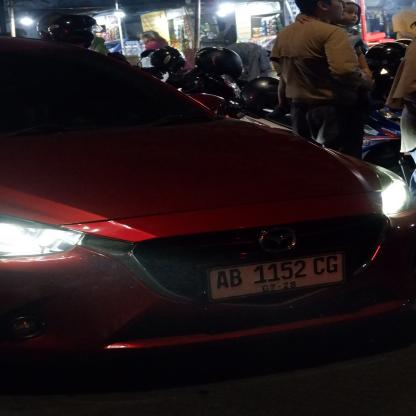Plat-Nomor: (202, 251, 350, 305)
